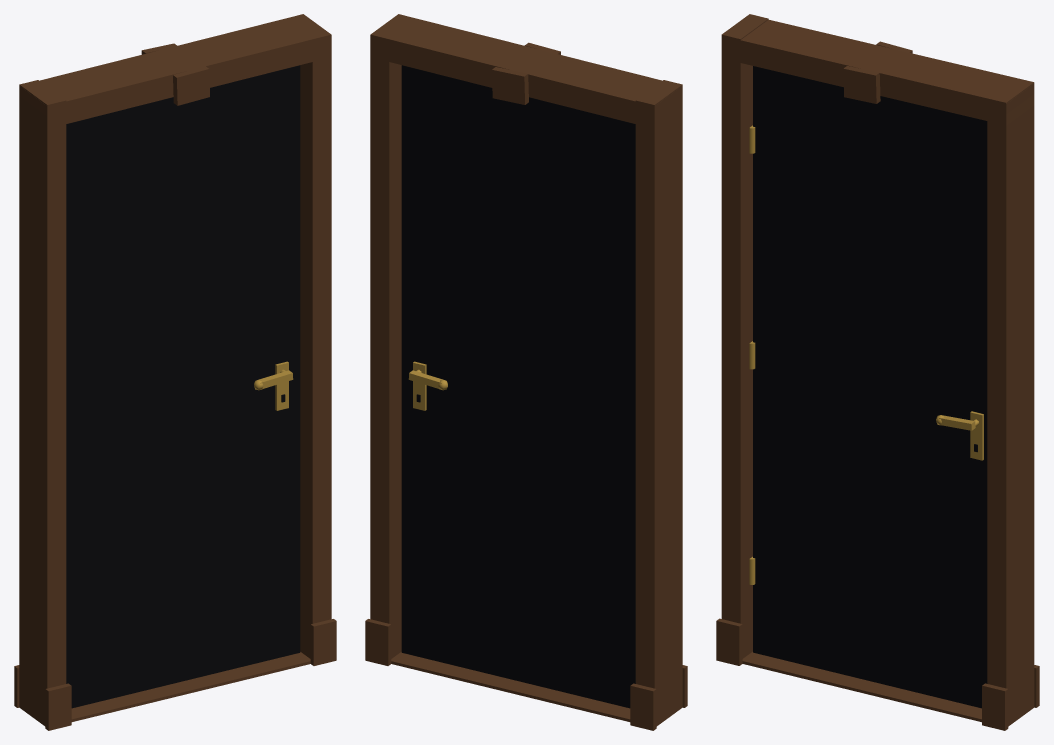
The model's file is ZwarteDeur.glb.
3 renders of one model, left to right at view 1: azimuth 30°, elevation 25°; view 2: azimuth 150°, elevation 25°; view 3: azimuth 330°, elevation 25°, orthographic.
Parts seen in each view (by area): view 1: DoorPanel, FrameMerged, Handle; view 2: DoorPanel, FrameMerged, Handle; view 3: DoorPanel, FrameMerged, Handle, Hinges.
Boxes of the visible parts, <box> form: DoorPanel: <box>66,65,300,708</box>; FrameMerged: <box>14,14,336,730</box>; Handle: <box>254,361,293,410</box>; DoorPanel: <box>401,65,635,708</box>; FrameMerged: <box>365,14,687,730</box>; Handle: <box>408,361,447,410</box>; DoorPanel: <box>753,66,987,708</box>; FrameMerged: <box>716,14,1039,730</box>; Handle: <box>936,411,983,460</box>; Hinges: <box>749,125,755,584</box>.
Size of the model in its own units: 1.07 by 2.2 by 0.23.
